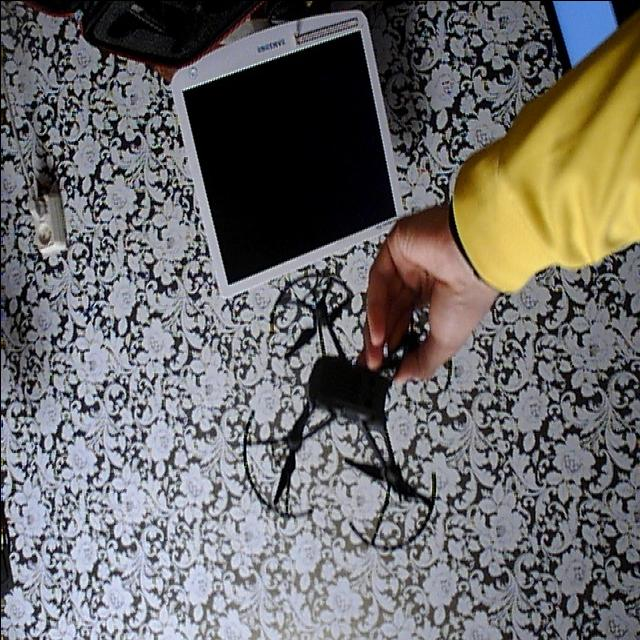drone: (236, 264, 454, 564)
